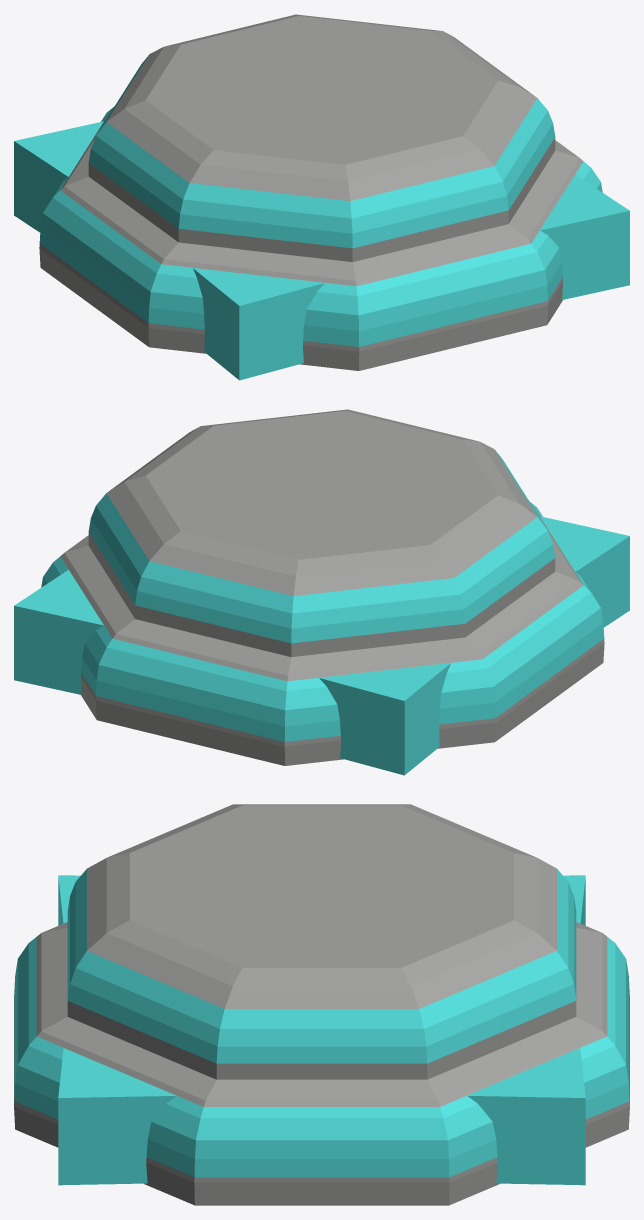
The model's file is base_upgraded_ice.fbx.
3 renders of one model, top to bottom at view 1: azimuth 30°, elevation 25°; view 2: azimuth 150°, elevation 25°; view 3: azimuth 270°, elevation 25°, orthographic. The views are drawn at different scales.
Parts seen in each view (by area): view 1: Circle; view 2: Circle; view 3: Circle.
Part boxes in pixels (left/top/right/bottom): Circle: left=14, top=14, right=629, bottom=380; Circle: left=14, top=409, right=629, bottom=775; Circle: left=14, top=804, right=629, bottom=1205.
Bounding box in the file's own units: 185 × 62.87 × 185.
Materials: 1 (1 with a texture image).
